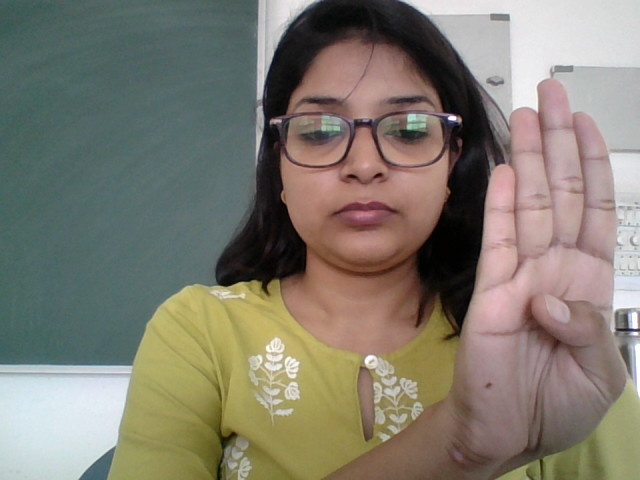B: (454, 74, 634, 468)
